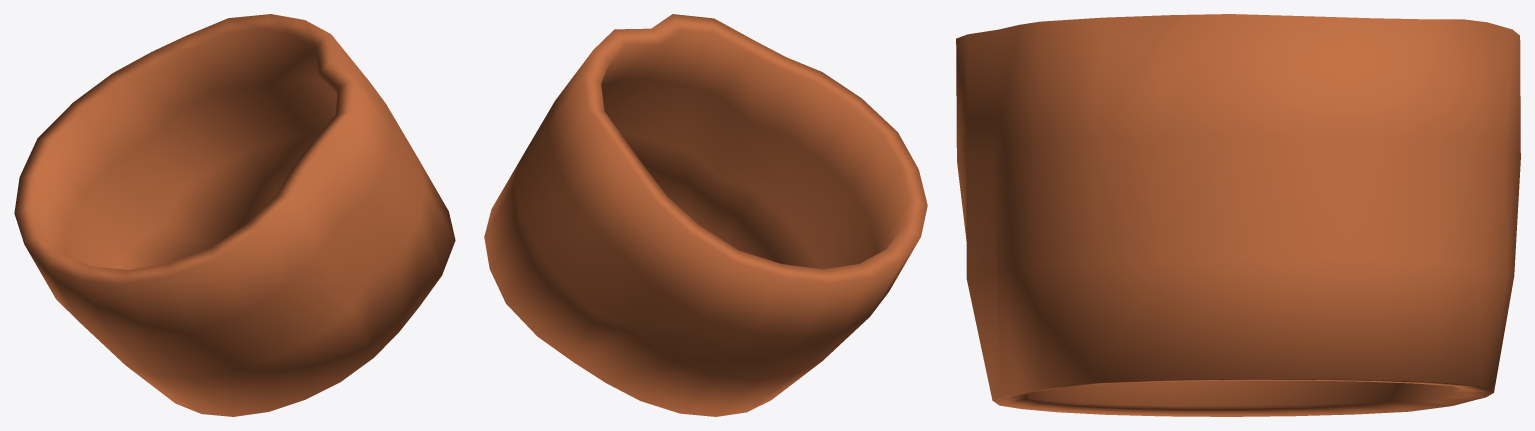
The model's file is Armor_Bracer_L.fbx.
The picture shows the model from 3 angles, left to right: view 1: azimuth 30°, elevation 25°; view 2: azimuth 150°, elevation 25°; view 3: azimuth 270°, elevation 25°; orthographic projection. The views are drawn at different scales.
Visible parts, largest first — view 1: Armor_Bracer_L; view 2: Armor_Bracer_L; view 3: Armor_Bracer_L.
Part boxes in pixels (x1,y1,x2,y2): Armor_Bracer_L: [14, 14, 455, 416]; Armor_Bracer_L: [484, 14, 927, 416]; Armor_Bracer_L: [956, 14, 1520, 416].
Size of the model in its own units: 0.1348 by 0.1102 by 0.1078.
